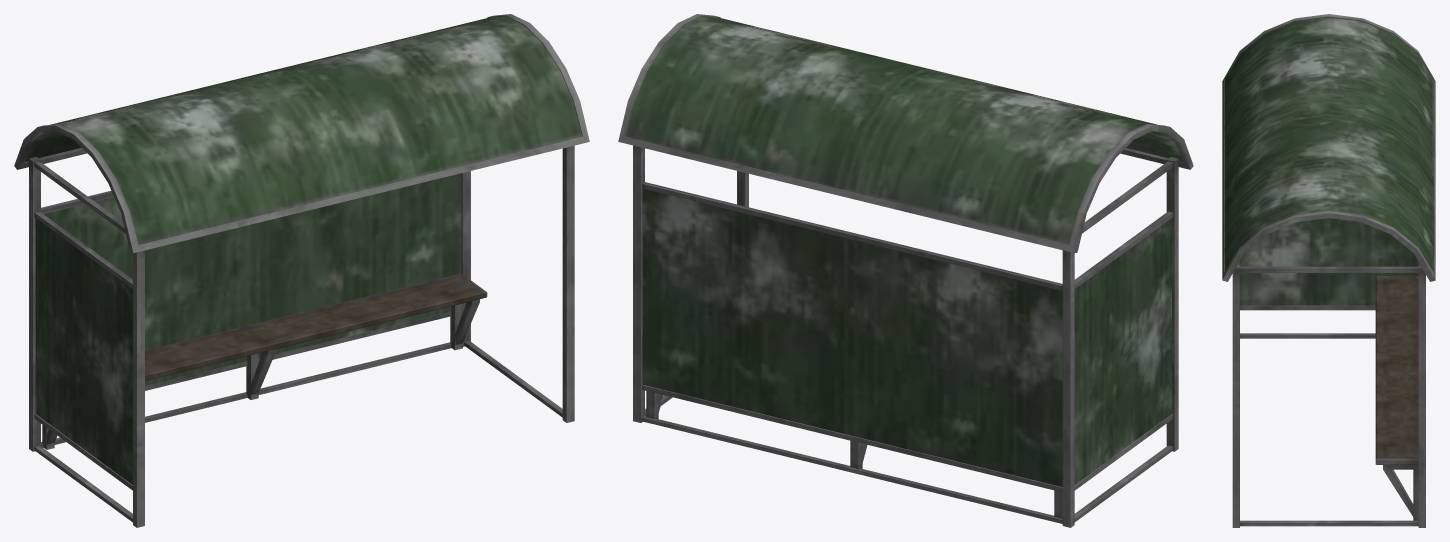
File: busstop.glb
3 renders of one model, left to right at view 1: azimuth 30°, elevation 25°; view 2: azimuth 150°, elevation 25°; view 3: azimuth 270°, elevation 25°, orthographic. The views are drawn at different scales.
Visible parts, largest first — view 1: Bus_Stop; view 2: Bus_Stop; view 3: Bus_Stop.
Boxes of the visible parts, left/top/right/bottom form: Bus_Stop: left=14, top=14, right=589, bottom=527; Bus_Stop: left=618, top=14, right=1193, bottom=527; Bus_Stop: left=1222, top=14, right=1435, bottom=527.
Size of the model in its own units: 5.31 by 3.96 by 2.4.
1 material, 1 textured.
